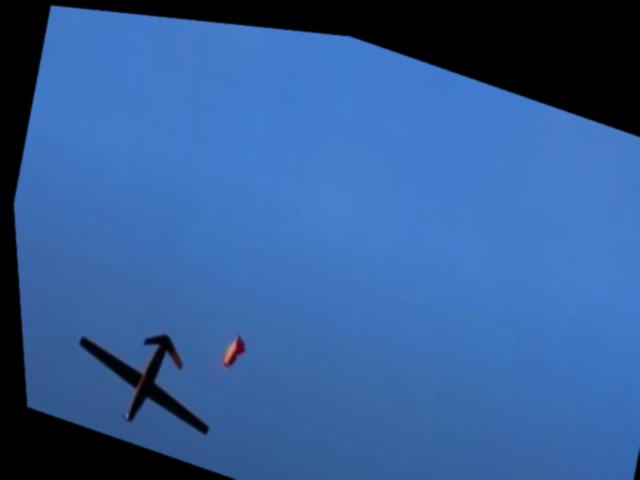iha: (54, 301, 226, 454)
